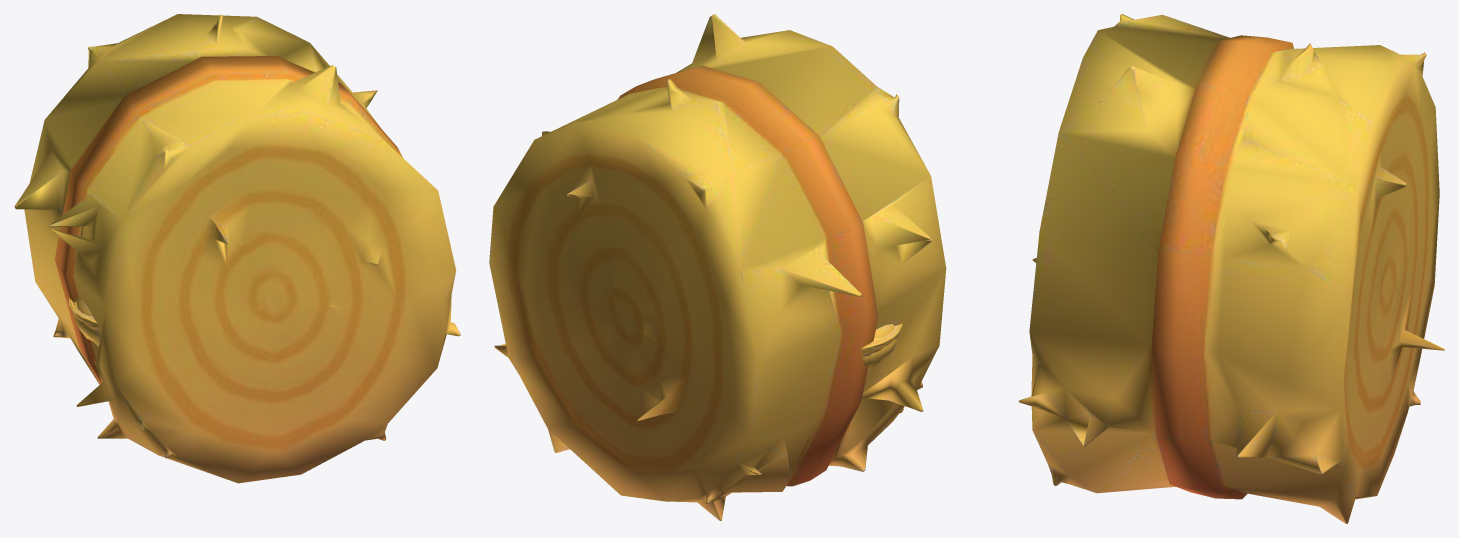
File: hay_bale.glb
3 views of the same model, side by side, from view 1: azimuth 30°, elevation 25°; view 2: azimuth 150°, elevation 25°; view 3: azimuth 270°, elevation 25° (orthographic). The views are drawn at different scales.
Visible parts, largest first — view 1: tripo_node_a37bf932-13c1-4651-b2bb-3b3291517a91; view 2: tripo_node_a37bf932-13c1-4651-b2bb-3b3291517a91; view 3: tripo_node_a37bf932-13c1-4651-b2bb-3b3291517a91.
Boxes of the visible parts, left/top/right/bottom form: tripo_node_a37bf932-13c1-4651-b2bb-3b3291517a91: left=14, top=14, right=460, bottom=483; tripo_node_a37bf932-13c1-4651-b2bb-3b3291517a91: left=489, top=14, right=946, bottom=520; tripo_node_a37bf932-13c1-4651-b2bb-3b3291517a91: left=1018, top=14, right=1444, bottom=523.
Bounding box in the file's own units: 0.998 × 0.9746 × 0.8574.
1 material, 1 textured.
